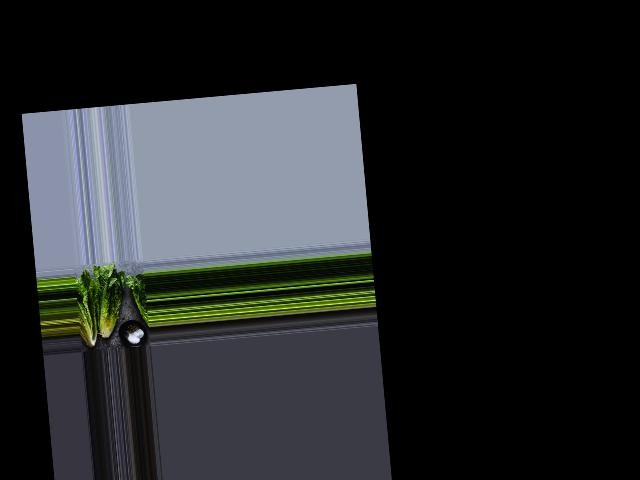lettuce: (75, 274, 102, 352)
